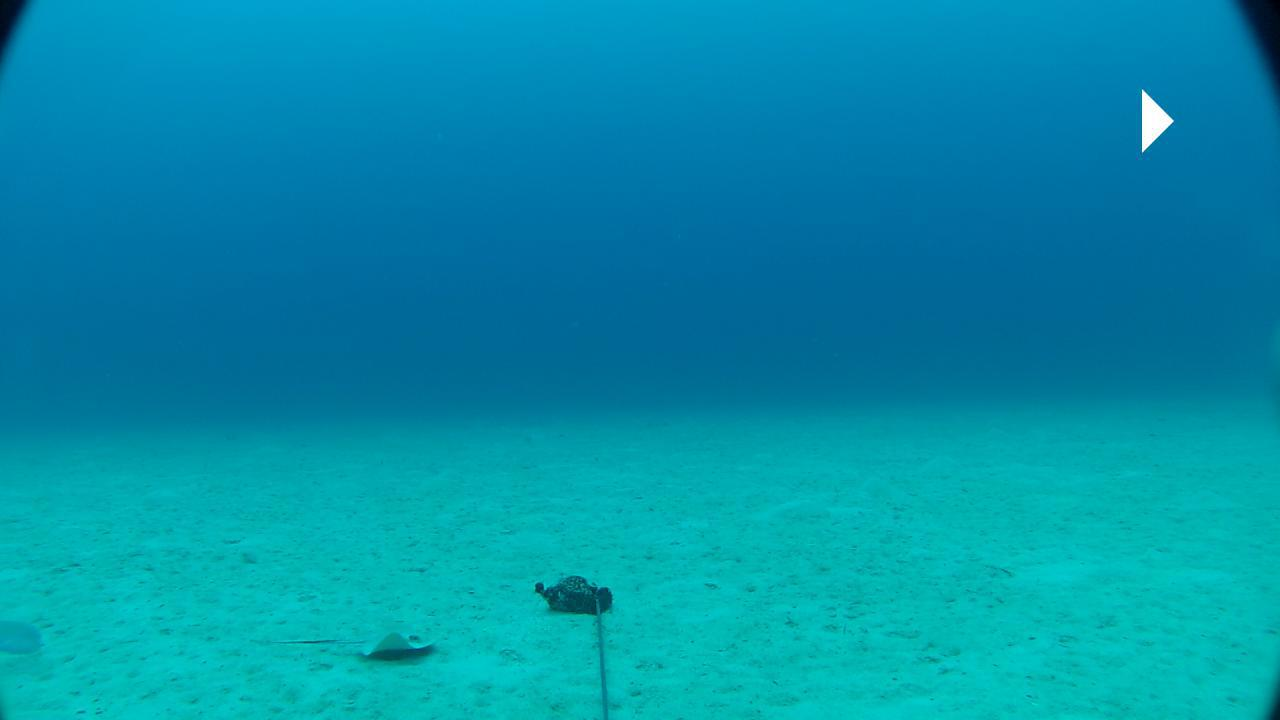dasyatis: (250, 624, 438, 658)
